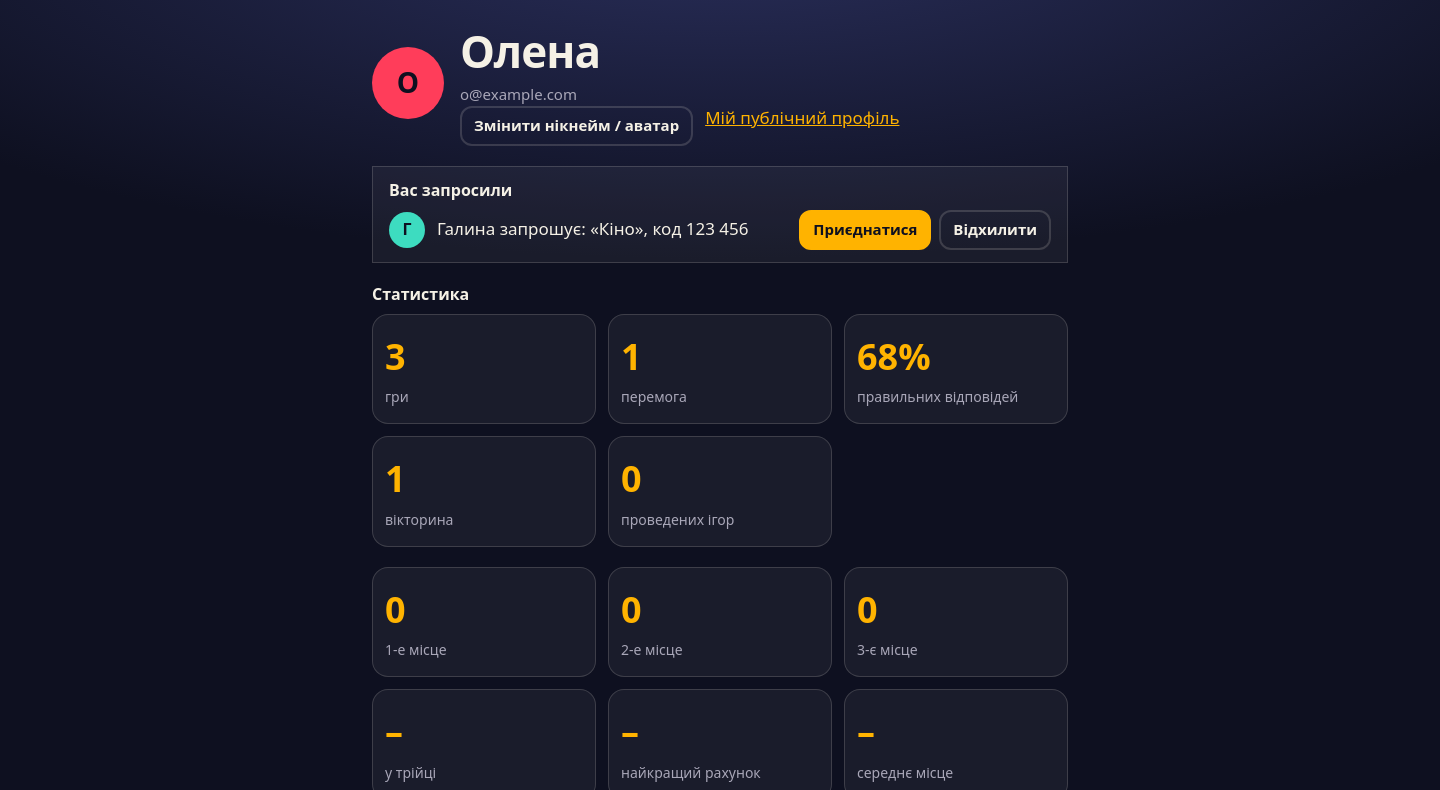
Scenario: Profile › shows invites at the top with join and dismiss
Expected: the heading "Вас запросили" is shown, [389,178,512,200]
Expected: the text "Галина запрошує: «Кіно», код 123 456" is shown, [437,217,787,242]
Click the button "Відхилити".
click(995, 230)  # box [939,210,1051,250]
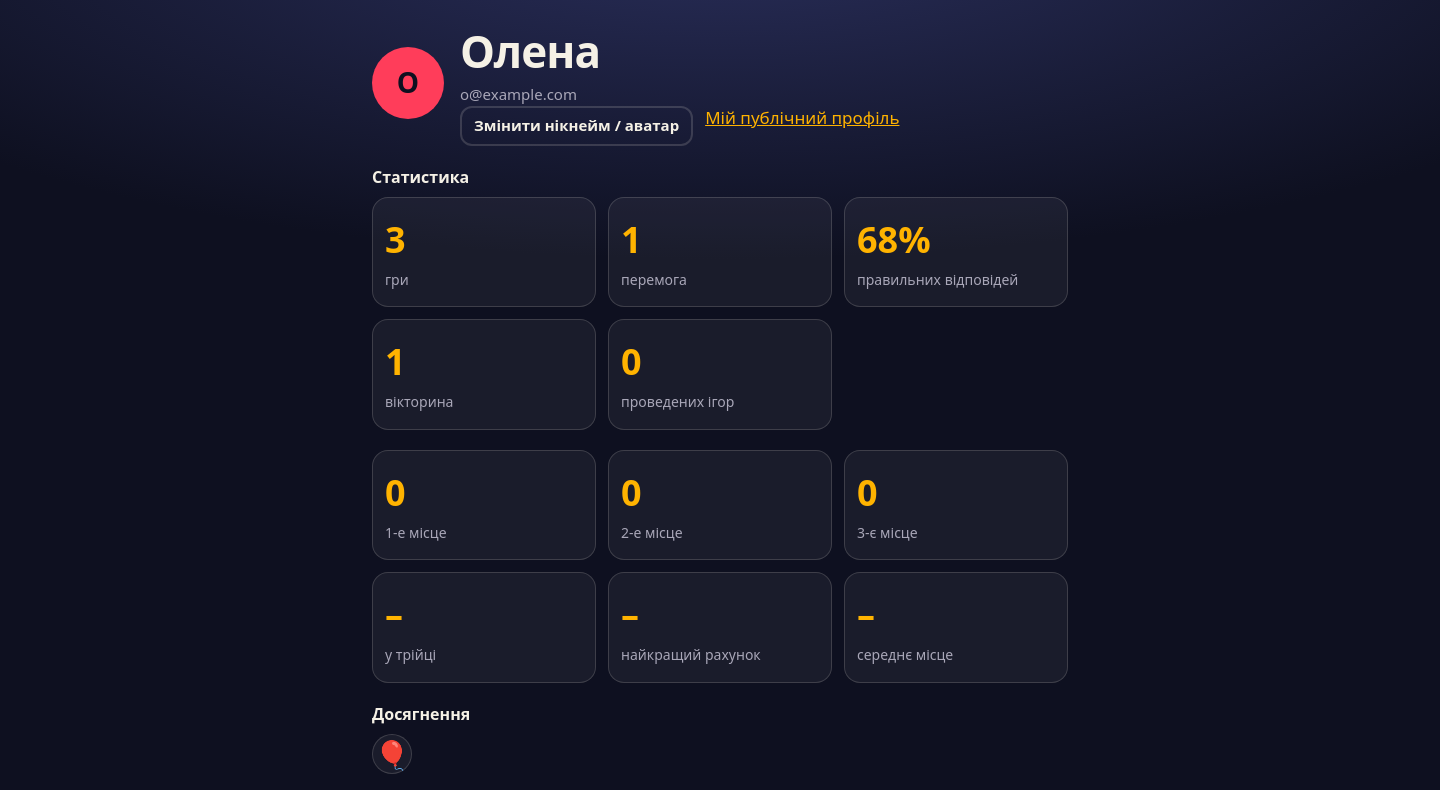
Result: the text "Галина запрошує: «Кіно», код 123 456" is gone
